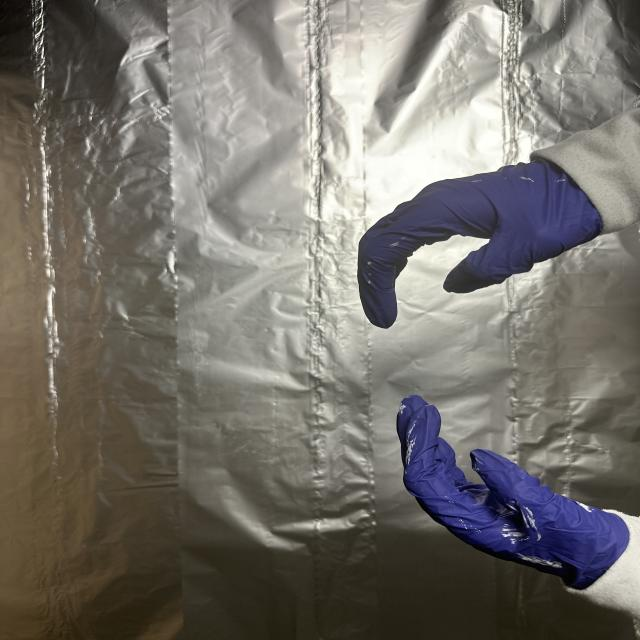gloves_contaminated: (397, 395, 630, 590), (358, 162, 602, 328)
